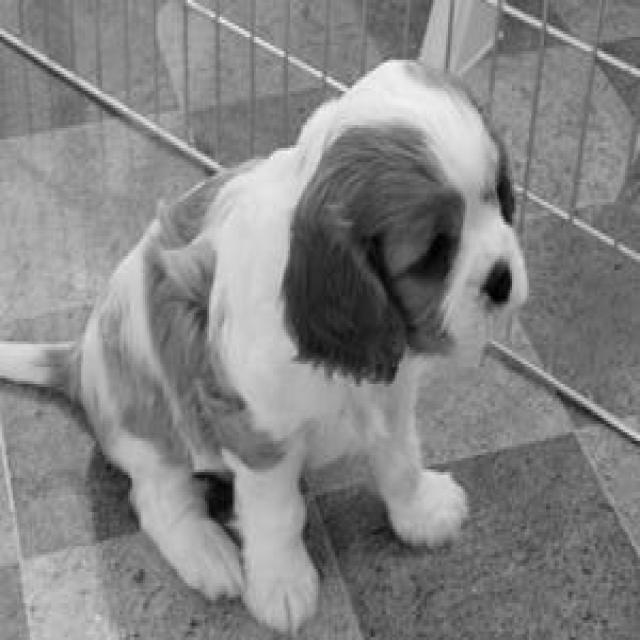sitting: (56, 57, 534, 634)
